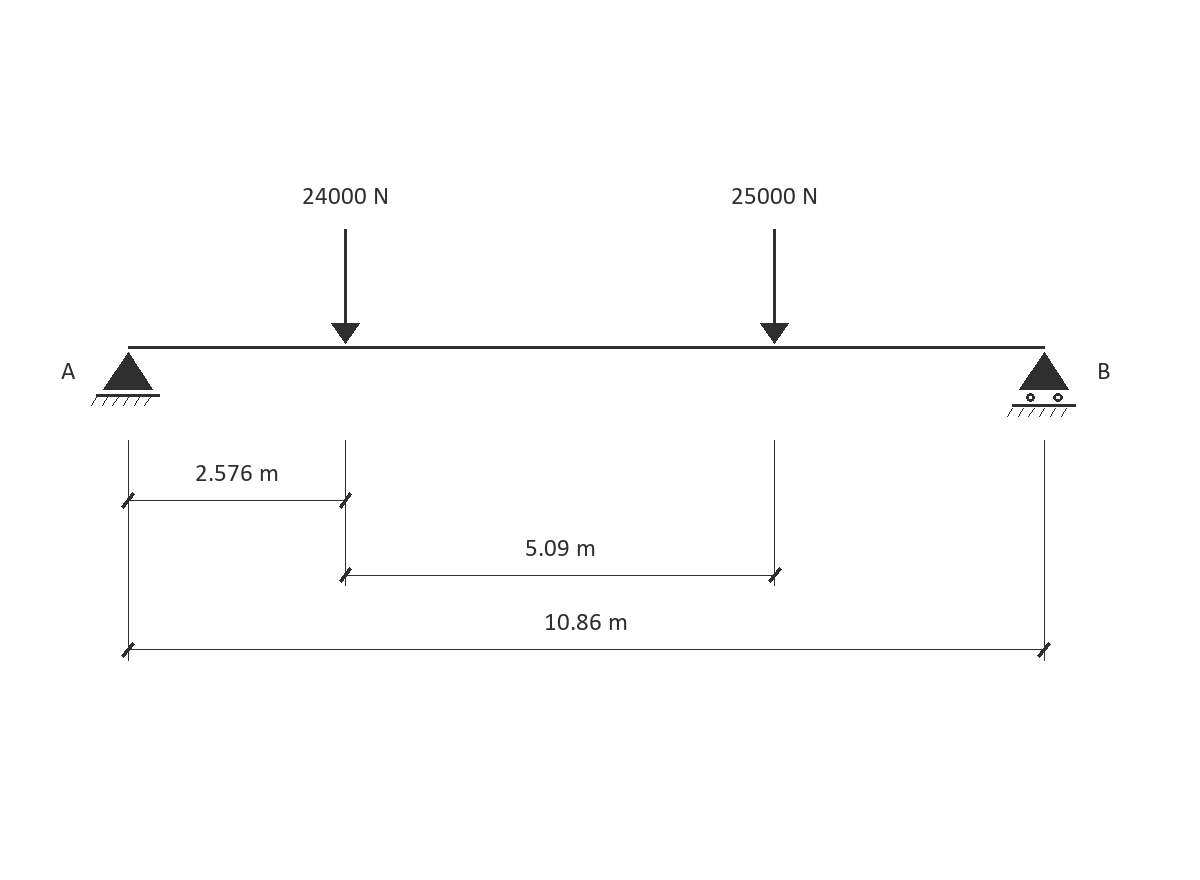pin_support: (91, 352, 160, 406)
point_load: (331, 229, 360, 344), (760, 229, 789, 344)
roller_support: (1007, 352, 1076, 417)
